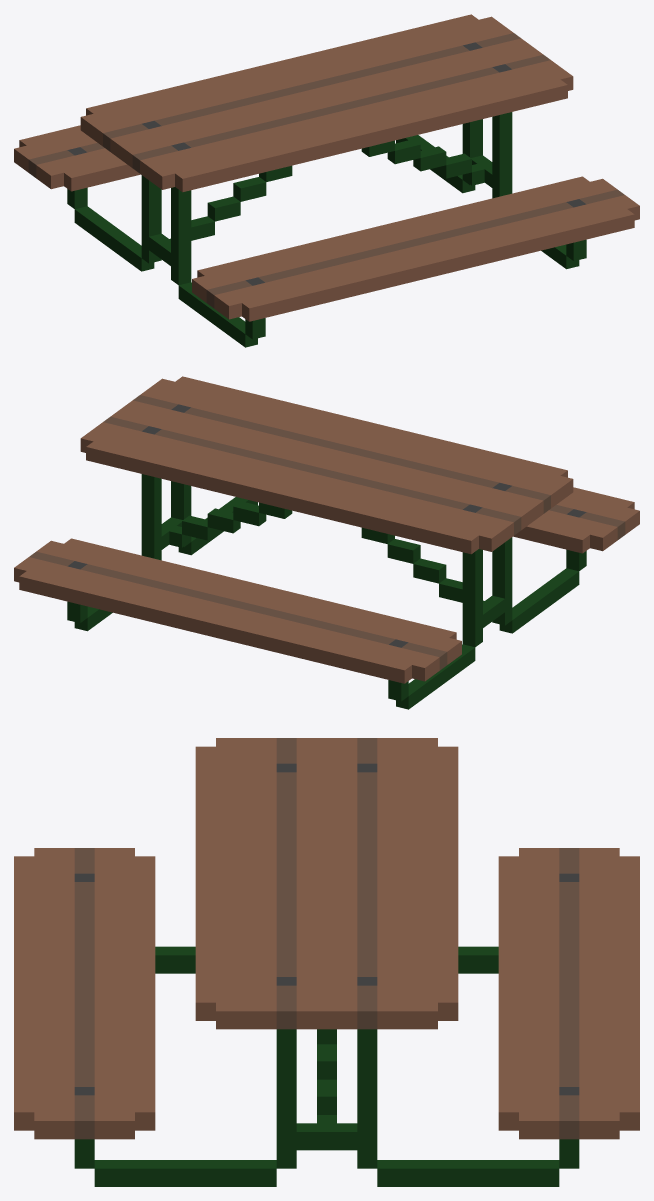
File: Picnic_Set-4.obj
3 views of the same model, one above another, from view 1: azimuth 30°, elevation 25°; view 2: azimuth 150°, elevation 25°; view 3: azimuth 270°, elevation 25° (orthographic). The views are drawn at different scales.
Size of the model in its own units: 3.2 by 1.1 by 3.1.
1 material, 1 textured.
